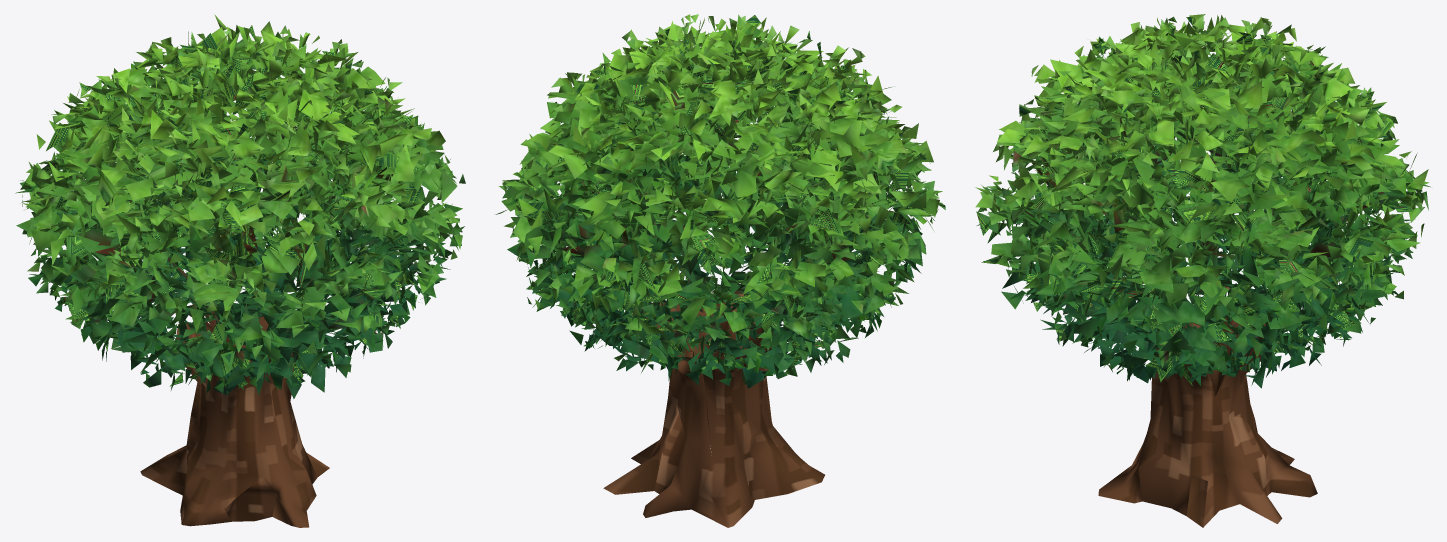
Rendered from tree_2.glb.
The picture shows the model from 3 angles, left to right: view 1: azimuth 30°, elevation 25°; view 2: azimuth 150°, elevation 25°; view 3: azimuth 270°, elevation 25°; orthographic projection.
Parts seen in each view (by area): view 1: Mesh_0; view 2: Mesh_0; view 3: Mesh_0.
Part boxes in pixels (x1=…): Mesh_0: x1=15, y1=14, x2=465, y2=527; Mesh_0: x1=495, y1=14, x2=945, y2=527; Mesh_0: x1=975, y1=14, x2=1430, y2=527.
Bounding box in the file's own units: 1.74 × 1.94 × 1.75.
1 material, 1 textured.
